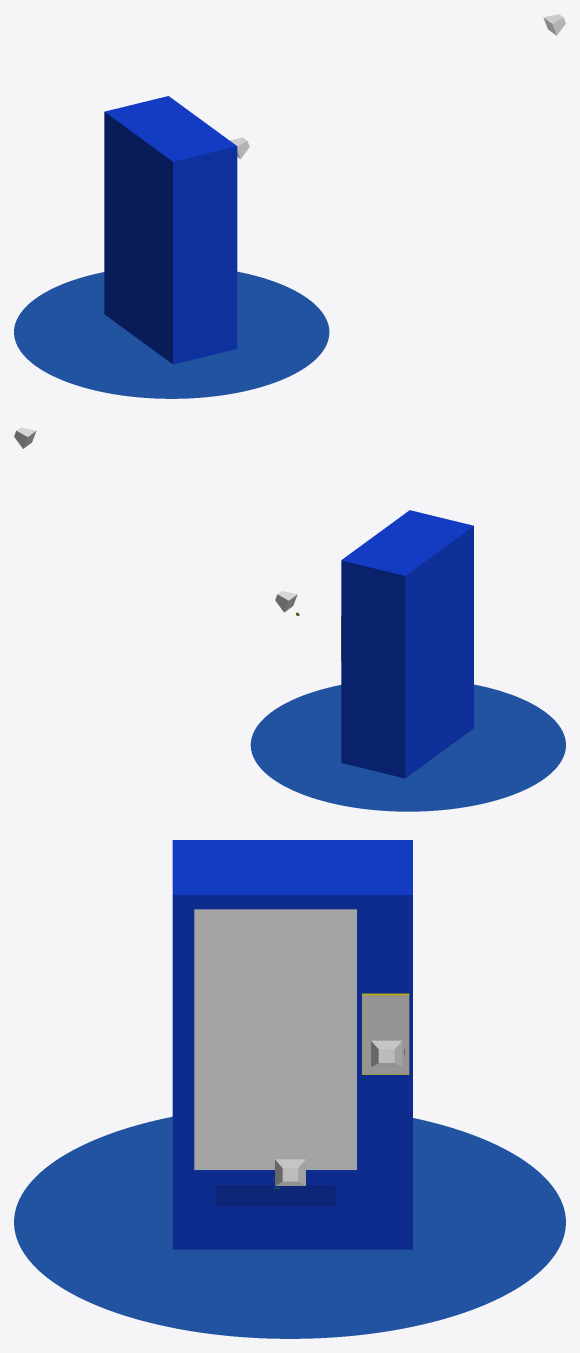
File: vending.glb
3 views of the same model, one above another, from view 1: azimuth 30°, elevation 25°; view 2: azimuth 150°, elevation 25°; view 3: azimuth 270°, elevation 25° (orthographic). The views are drawn at different scales.
Parts seen in each view (by area): view 1: Body, Floor; view 2: Body, Floor; view 3: Floor, Body, Glass, highlight-keypad-plane, Hatch, camera-numpad, camera-front.
Boxes of the visible parts, <box> form: Body: <box>104,96,237,364</box>; Floor: <box>14,271,329,398</box>; Body: <box>341,510,473,778</box>; Floor: <box>250,684,565,811</box>; Floor: <box>14,1116,565,1338</box>; Body: <box>172,840,412,1249</box>; Glass: <box>194,909,356,1169</box>; highlight-keypad-plane: <box>362,995,408,1074</box>; Hatch: <box>215,1184,335,1206</box>; camera-numpad: <box>371,1040,402,1067</box>; camera-front: <box>275,1159,305,1185</box>.
Bounding box in the file's own units: 17.24 × 6.91 × 8.91.
